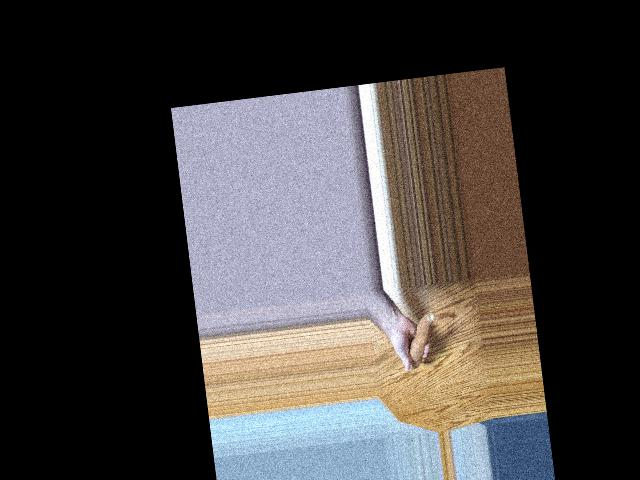sweet_potato: (403, 310, 439, 367)
